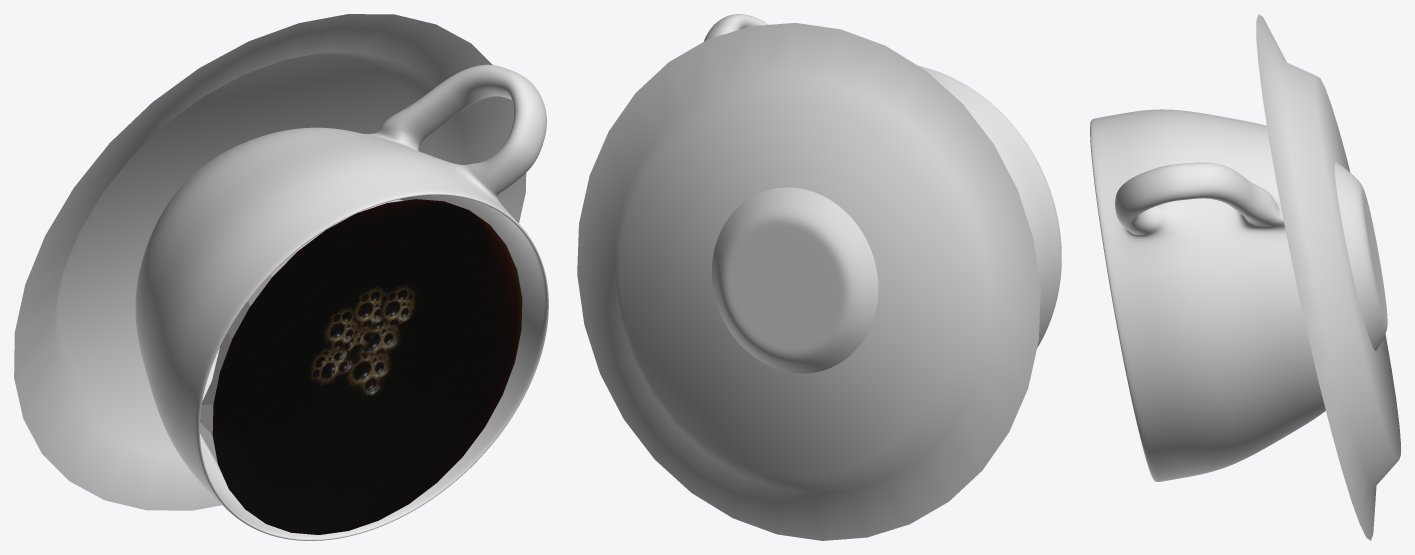
The model's file is blacktea.glb.
The picture shows the model from 3 angles, left to right: view 1: azimuth 30°, elevation 25°; view 2: azimuth 150°, elevation 25°; view 3: azimuth 270°, elevation 25°; orthographic projection. The views are drawn at different scales.
Parts seen in each view (by area): view 1: coffee.001, Circle.002, Cylinder; view 2: Circle.002, Cylinder; view 3: Cylinder, Circle.002.
Part boxes in pixels (x1,y1,x2,y2): coffee.001: (200,199,522,534); Circle.002: (14,14,526,510); Cylinder: (135,64,548,540); Circle.002: (577,23,1040,540); Cylinder: (704,14,1061,373); Cylinder: (1090,109,1387,481); Circle.002: (1256,14,1400,540).
Size of the model in its own units: 2.89 by 2.83 by 1.67.
Materials: 3 (1 with a texture image).
